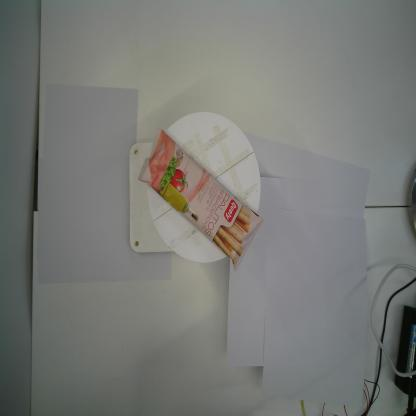Dessert: (137, 126, 265, 272)
